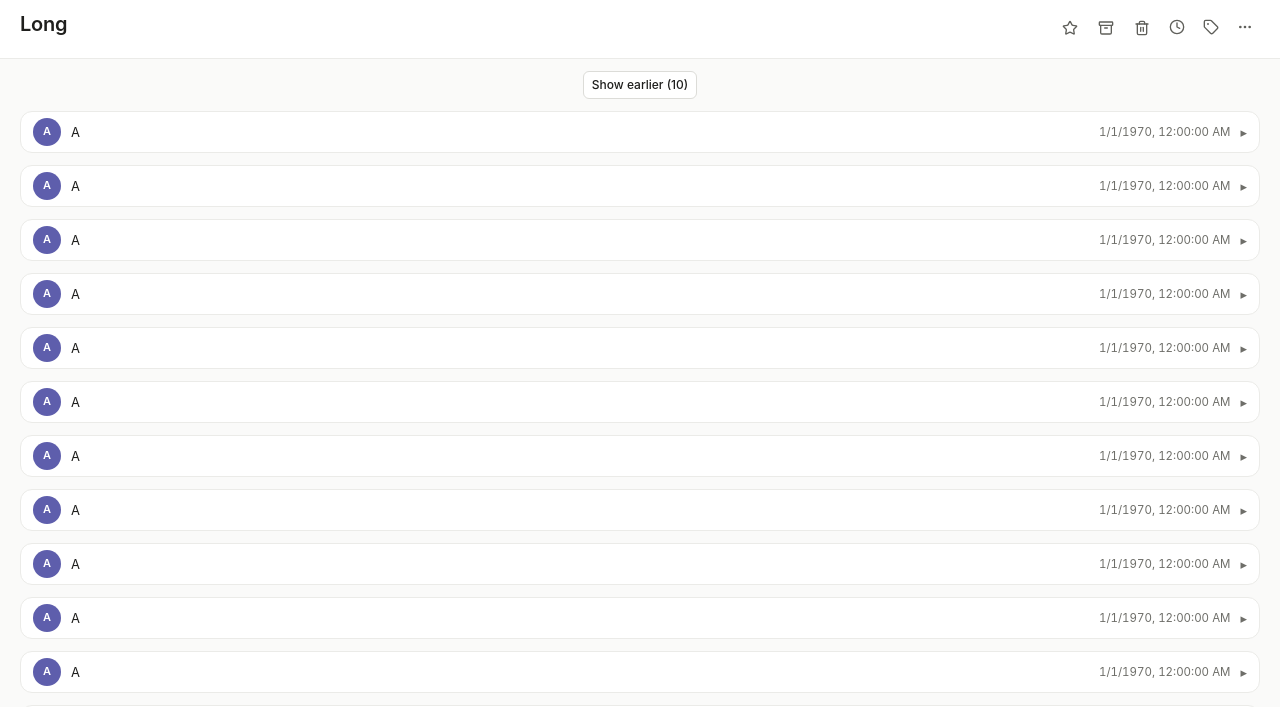
Scenario: P5-T07 expansion › reveals older messages a page at a time
Click the button "Show earlier (10)" at (640, 85), box [583,71,697,99]
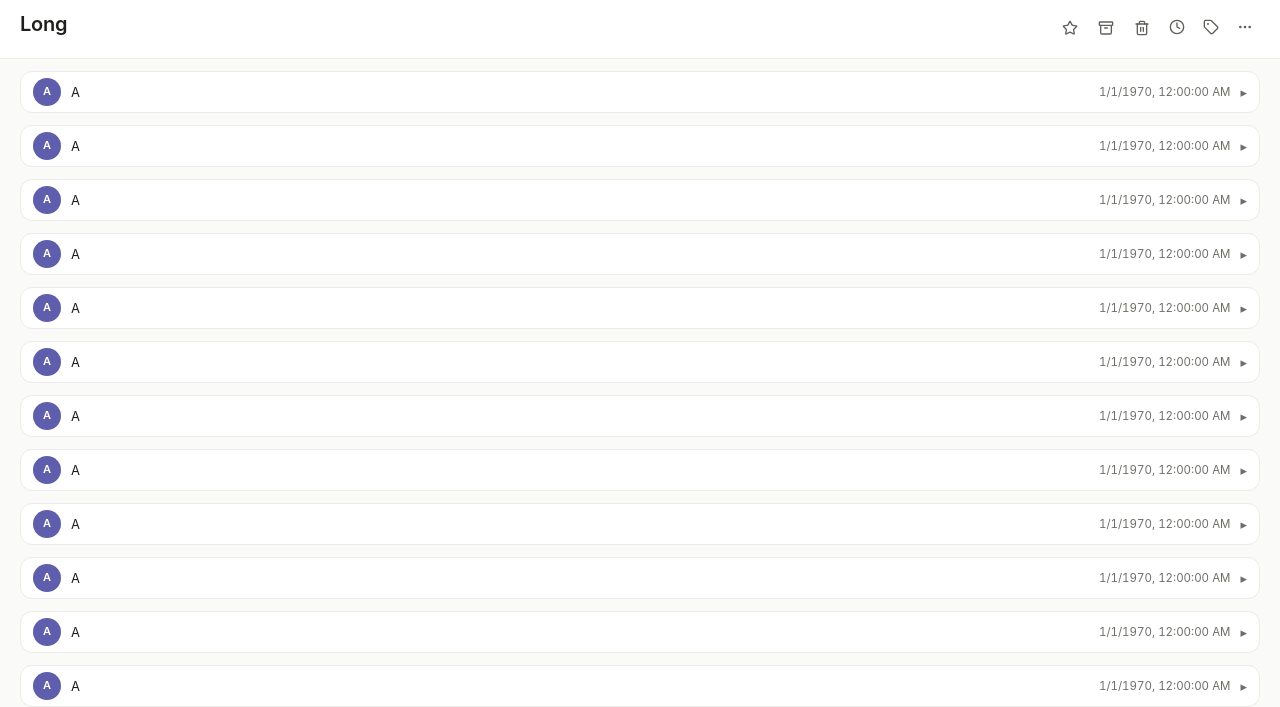
Expected: the button "Show earlier" is gone
